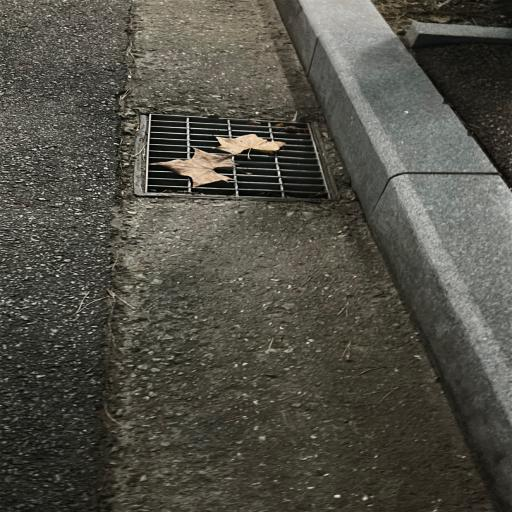debris: (164, 149, 231, 186), (219, 135, 283, 155), (275, 118, 290, 127)
drain: (149, 112, 333, 198)
